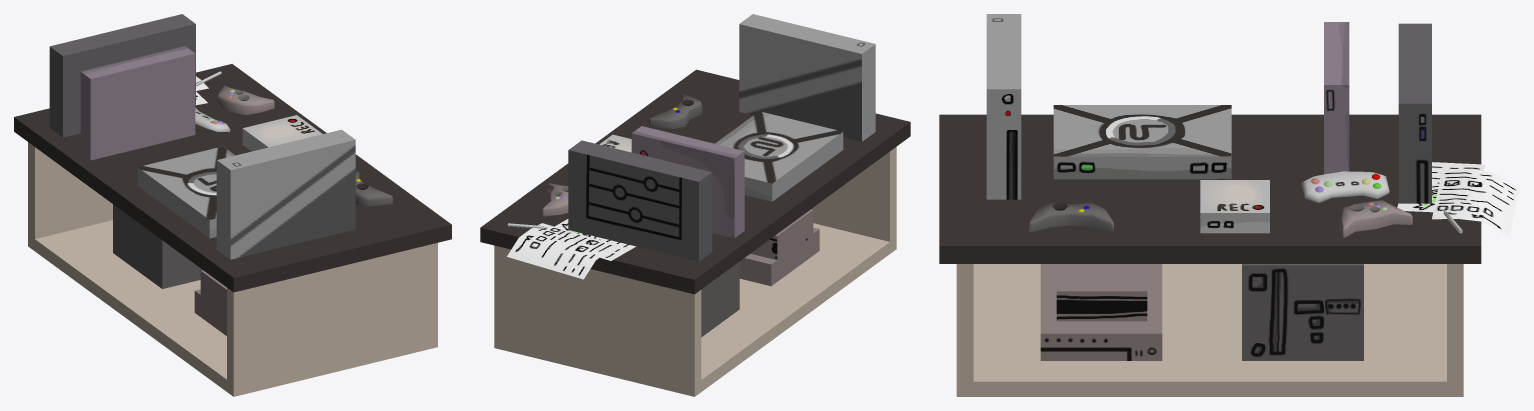
Rendered from consoles.glb.
3 views of the same model, side by side, from view 1: azimuth 30°, elevation 25°; view 2: azimuth 150°, elevation 25°; view 3: azimuth 270°, elevation 25° (orthographic). The views are drawn at different scales.
Parts seen in each view (by area): view 1: QAConsoleTable; view 2: QAConsoleTable; view 3: QAConsoleTable.
Part boxes in pixels (x1=…): QAConsoleTable: x1=14, y1=14, x2=451, y2=396; QAConsoleTable: x1=480, y1=14, x2=910, y2=396; QAConsoleTable: x1=939, y1=14, x2=1519, y2=396.
Size of the model in its own units: 1.4 by 1.32 by 2.61.
1 material, 1 textured.
